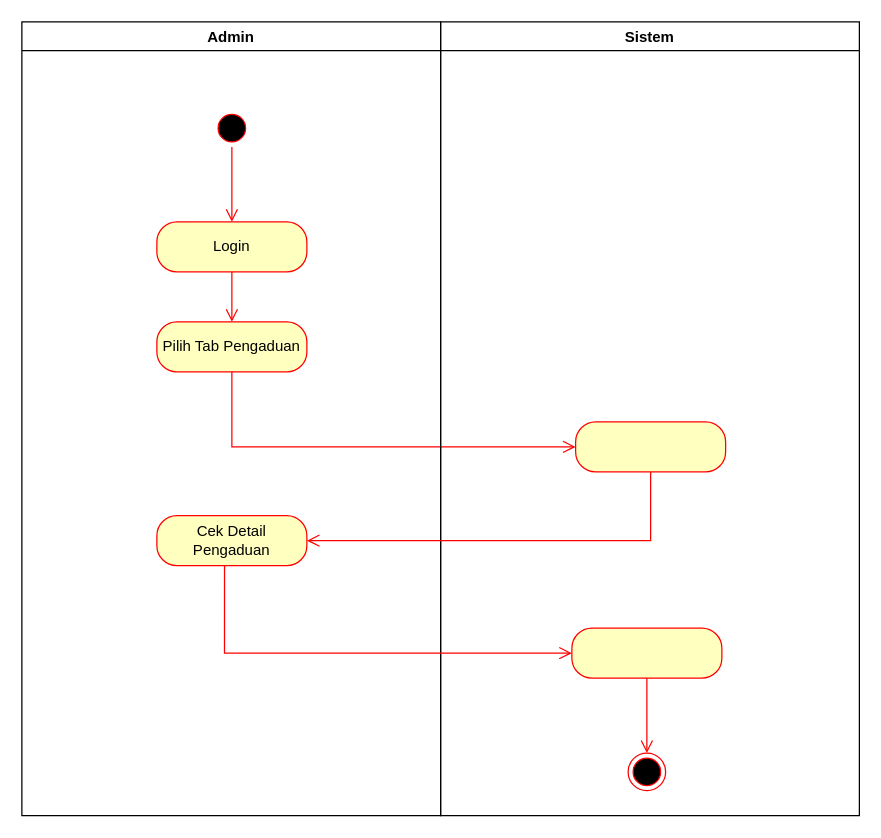
Image size: 881x838. Some labels were removed from this diagram. Here are the shapes that lost their labels. From the top down, the centre of each, then its label:
At point 650,446: "Menampilkan Data List Pengaduan".
At point 646,652: "Menampilkan Detail Pengaduan".
